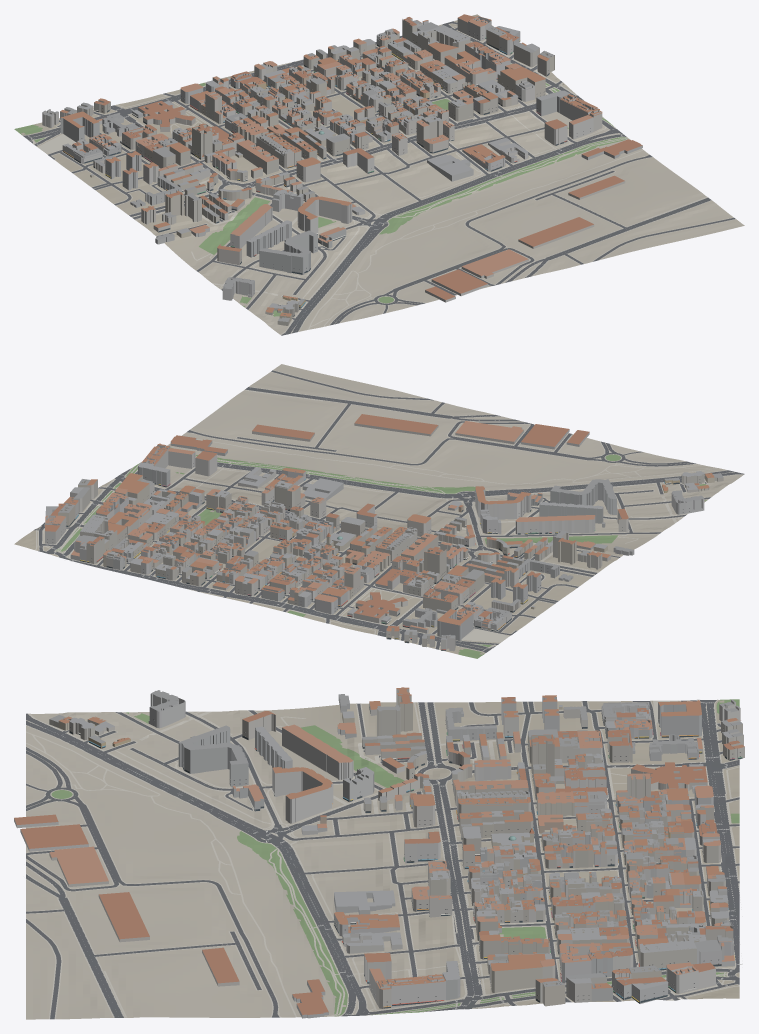
The picture shows the model from 3 angles, top to bottom: view 1: azimuth 30°, elevation 25°; view 2: azimuth 150°, elevation 25°; view 3: azimuth 270°, elevation 25°; orthographic projection. The views are drawn at different scales.
Parts seen in each view (by area): view 1: Ground, Walls, Roofs, Road, Sidewalk, Park, Detail; view 2: Ground, Walls, Roofs, Road, Sidewalk, Park, Detail; view 3: Ground, Walls, Roofs, Road, Sidewalk, Park, Detail, Marks.
Part boxes in pixels (x1=…): Ground: x1=21, y1=14, x2=744, y2=334; Walls: x1=42, y1=16, x2=642, y2=325; Roofs: x1=42, y1=14, x2=642, y2=321; Road: x1=23, y1=21, x2=735, y2=335; Sidewalk: x1=22, y1=20, x2=735, y2=334; Park: x1=14, y1=64, x2=628, y2=316; Detail: x1=62, y1=31, x2=590, y2=316; Ground: x1=14, y1=364, x2=742, y2=654; Walls: x1=45, y1=423, x2=723, y2=651; Roofs: x1=45, y1=414, x2=723, y2=639; Road: x1=34, y1=370, x2=744, y2=652; Sidewalk: x1=33, y1=370, x2=743, y2=653; Park: x1=56, y1=447, x2=706, y2=658; Detail: x1=47, y1=463, x2=705, y2=650; Ground: x1=26, y1=700, x2=739, y2=1019; Walls: x1=14, y1=689, x2=744, y2=1018; Roofs: x1=14, y1=687, x2=744, y2=1014; Road: x1=26, y1=700, x2=739, y2=1019; Sidewalk: x1=26, y1=699, x2=739, y2=1019; Park: x1=51, y1=699, x2=739, y2=1016; Detail: x1=69, y1=707, x2=742, y2=1008; Marks: x1=42, y1=699, x2=742, y2=1016.
Size of the model in its own units: 1038 by 82.92 by 1024.
